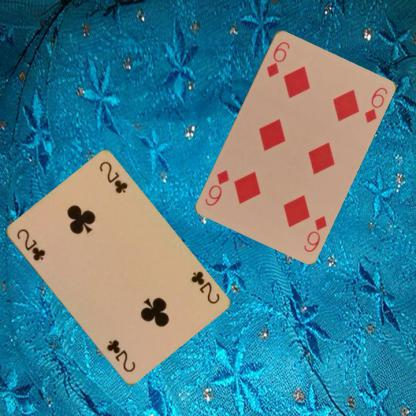2c: (188, 268, 220, 306), (13, 226, 46, 262)
6d: (264, 38, 291, 78), (301, 213, 328, 253)
